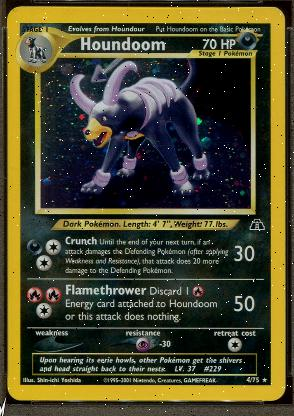Card: (4, 3, 284, 402)
